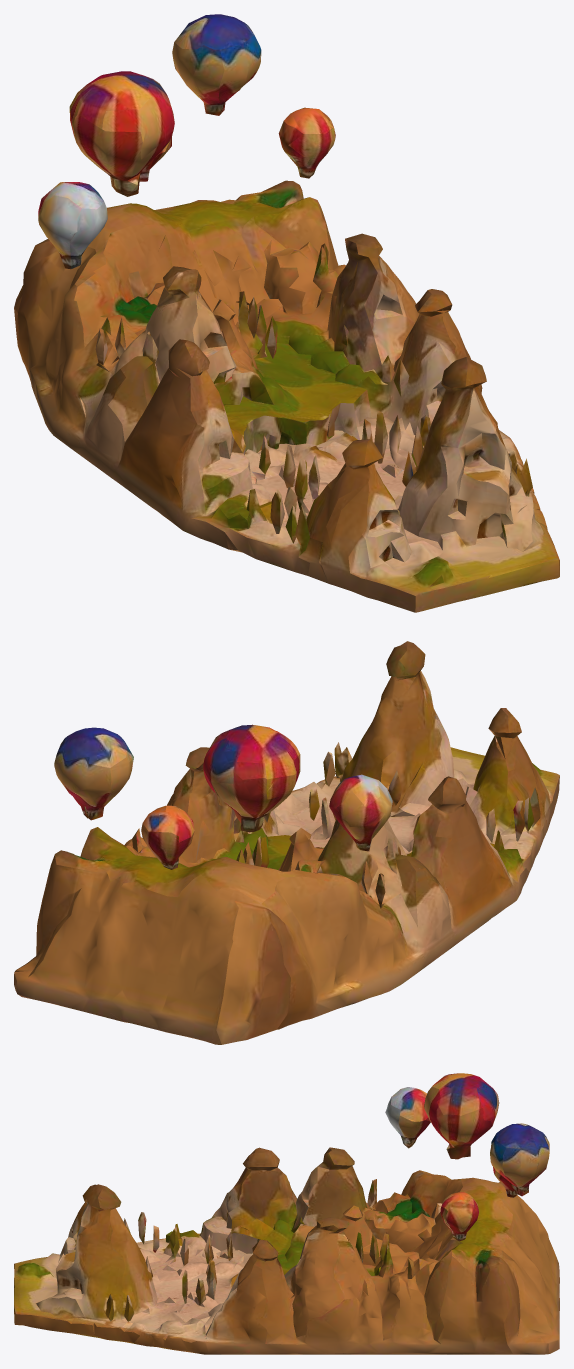
Rendered from goreme.glb.
3 renders of one model, top to bottom at view 1: azimuth 30°, elevation 25°; view 2: azimuth 150°, elevation 25°; view 3: azimuth 270°, elevation 25°, orthographic. The views are drawn at different scales.
Parts seen in each view (by area): view 1: logan-textured.obj; view 2: logan-textured.obj; view 3: logan-textured.obj.
Boxes of the visible parts, box(x1,y1,x2,y2) form: logan-textured.obj: box(14, 14, 559, 612); logan-textured.obj: box(14, 641, 559, 1044); logan-textured.obj: box(14, 1073, 559, 1354).
Size of the model in its own units: 0.4906 by 0.4214 by 1.
1 material, 1 textured.
